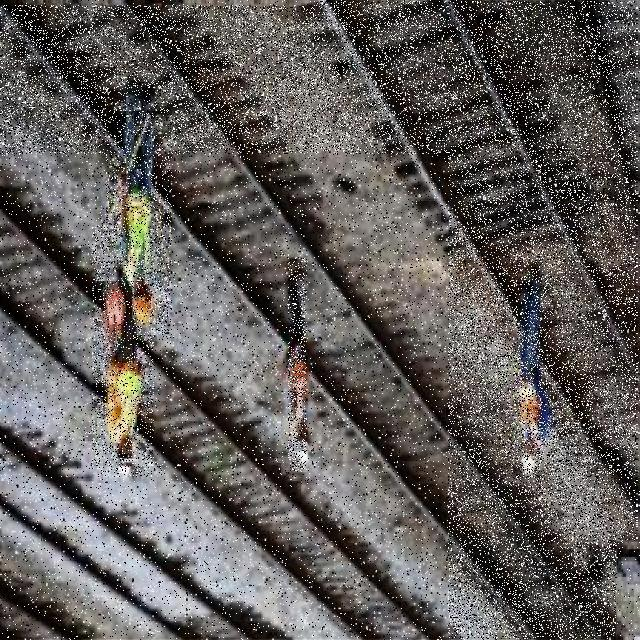rail: (1, 7, 617, 640), (1, 155, 449, 640), (314, 2, 638, 541)
